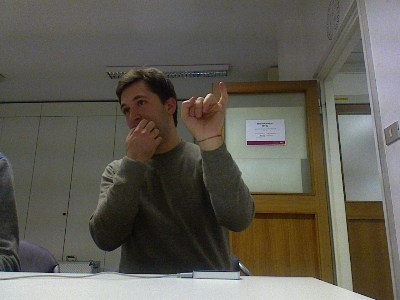小指: (179, 79, 229, 139)
